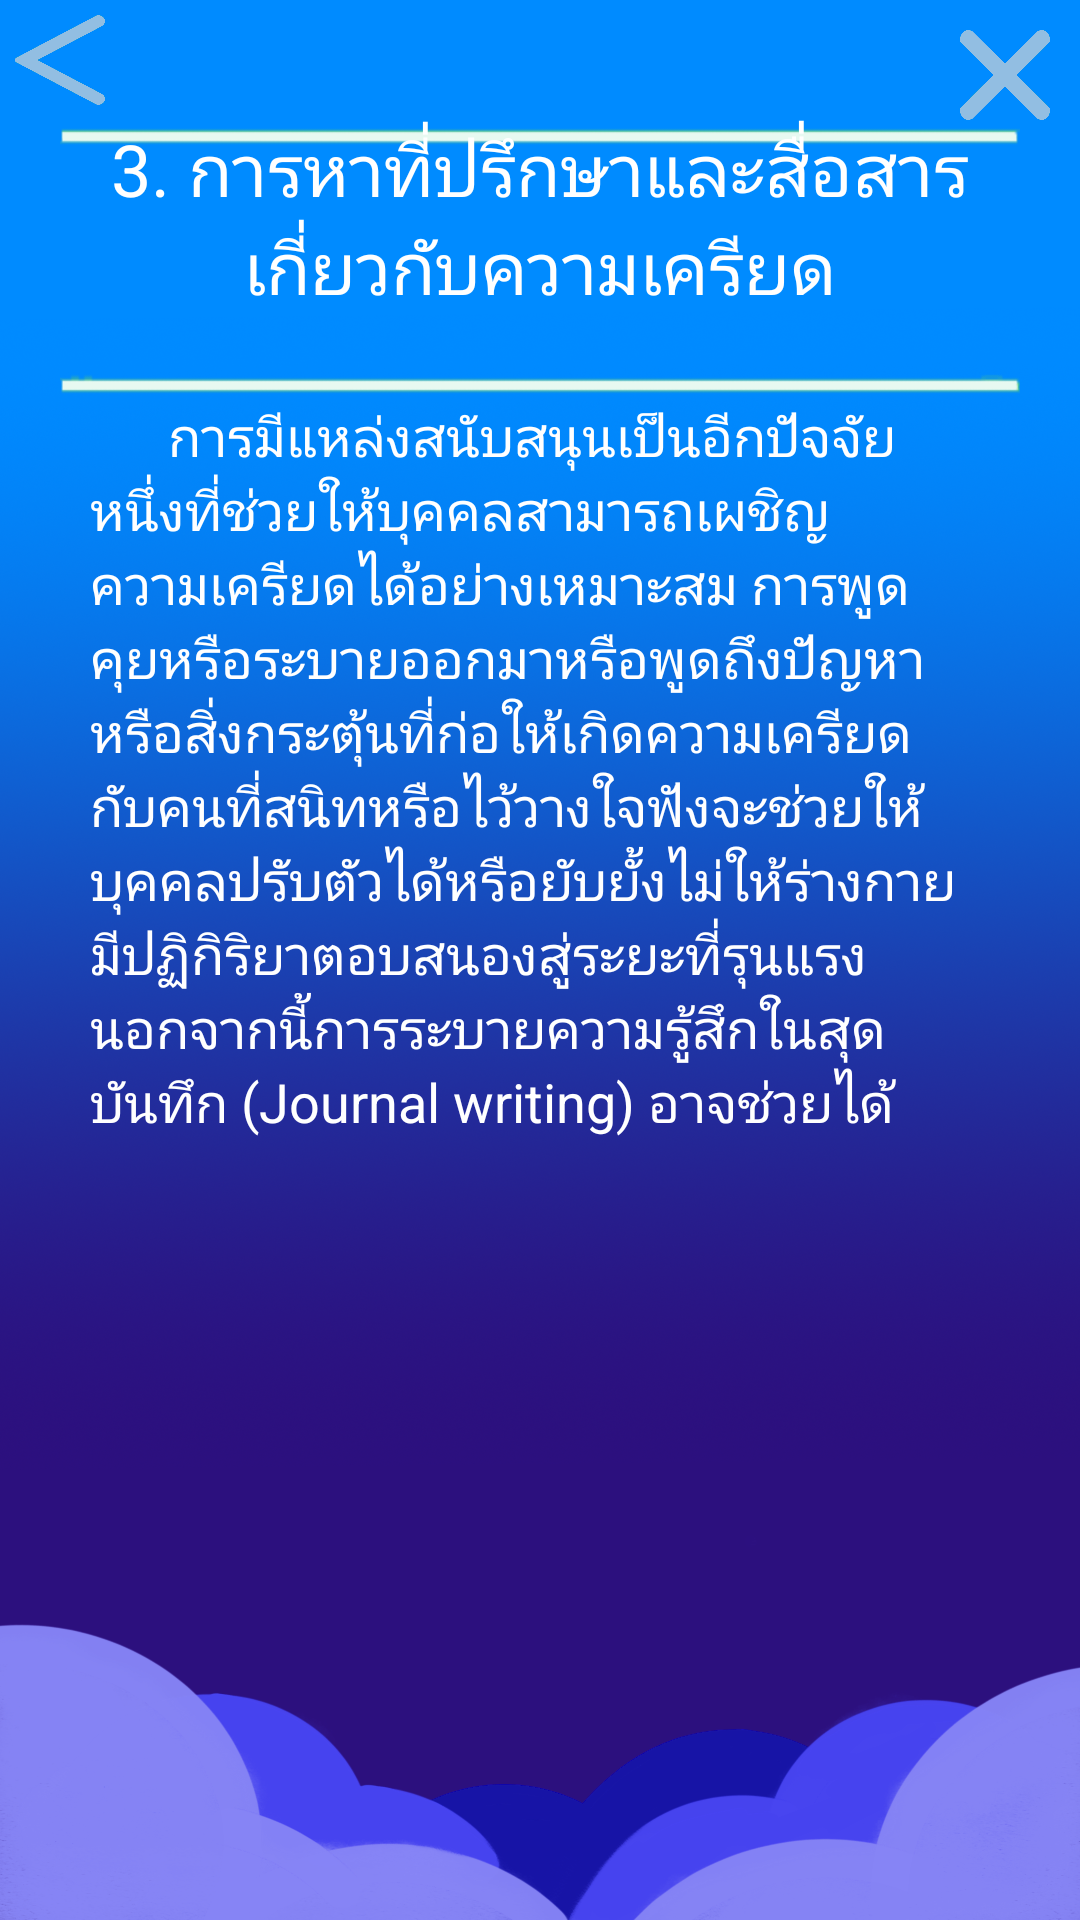

Screen size 1080px x 1920px. Icon name, then its box in pixels as [x1,y1,x2,y2]:
backbut: [15,15,105,105]
exit: [960,30,1050,120]
